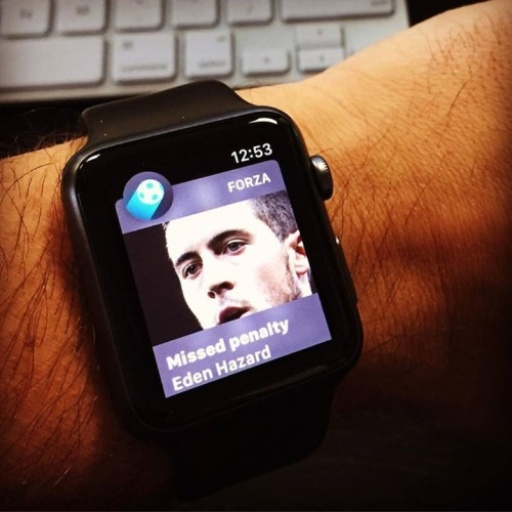hand: (315, 0, 510, 510)
